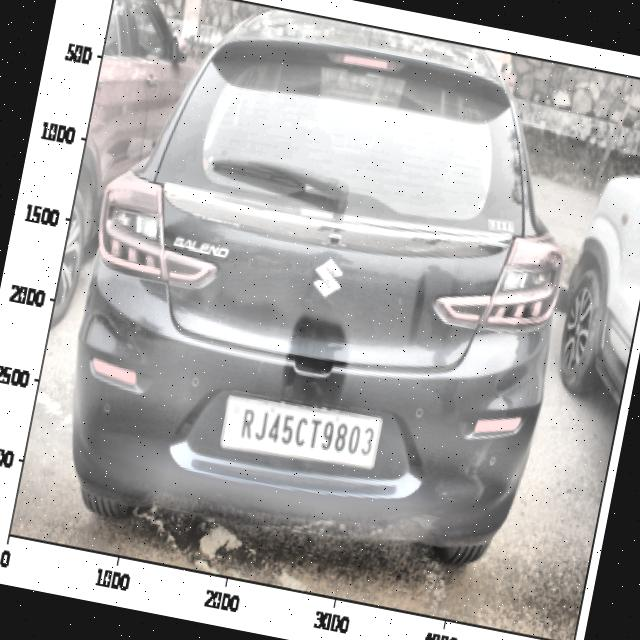license_plate: (230, 394, 384, 473)
